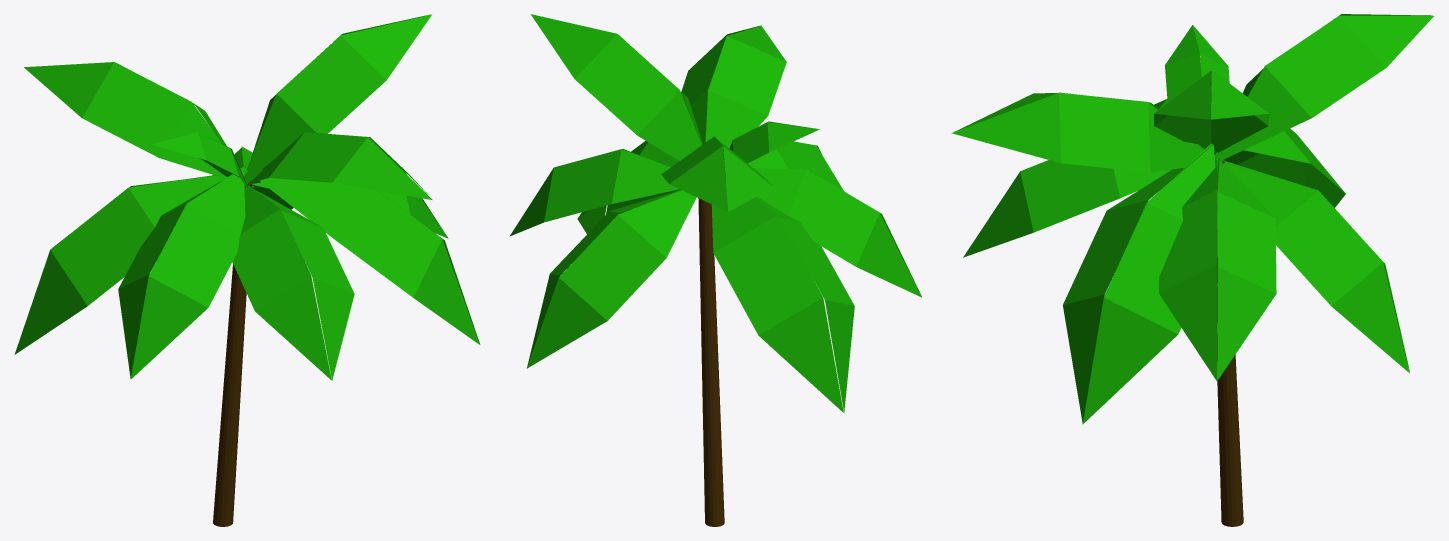
File: palmtree.obj
The picture shows the model from 3 angles, left to right: view 1: azimuth 30°, elevation 25°; view 2: azimuth 150°, elevation 25°; view 3: azimuth 270°, elevation 25°; orthographic projection. The views are drawn at different scales.
Size of the model in its own units: 21.66 by 24.95 by 21.4.
